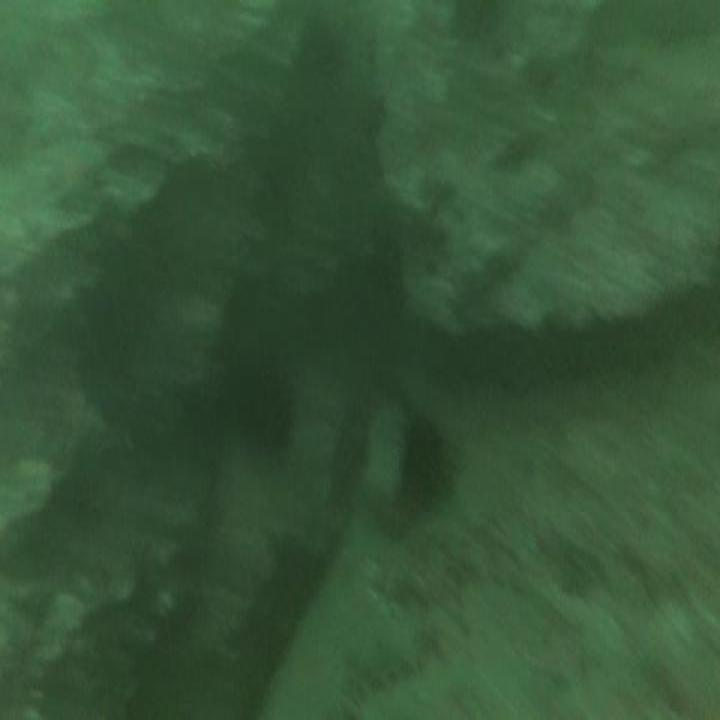echinus: (234, 357, 291, 450), (402, 419, 443, 500)
